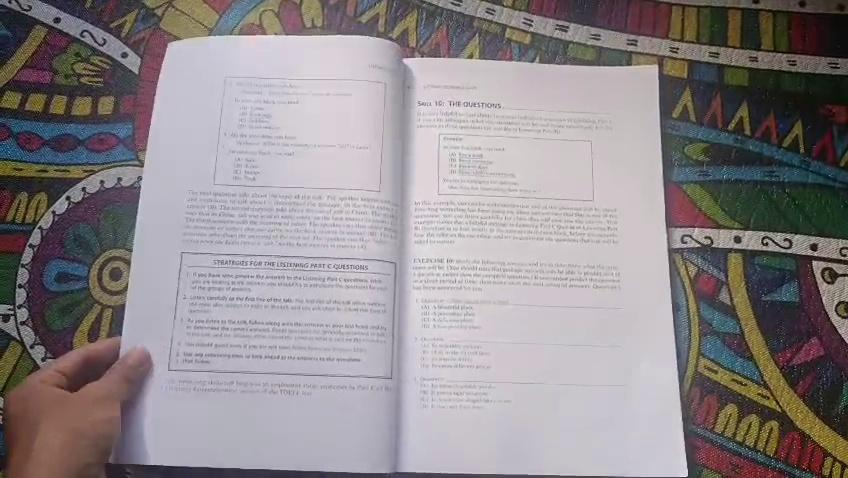Kertas: (161, 63, 482, 478), (384, 64, 658, 478)
